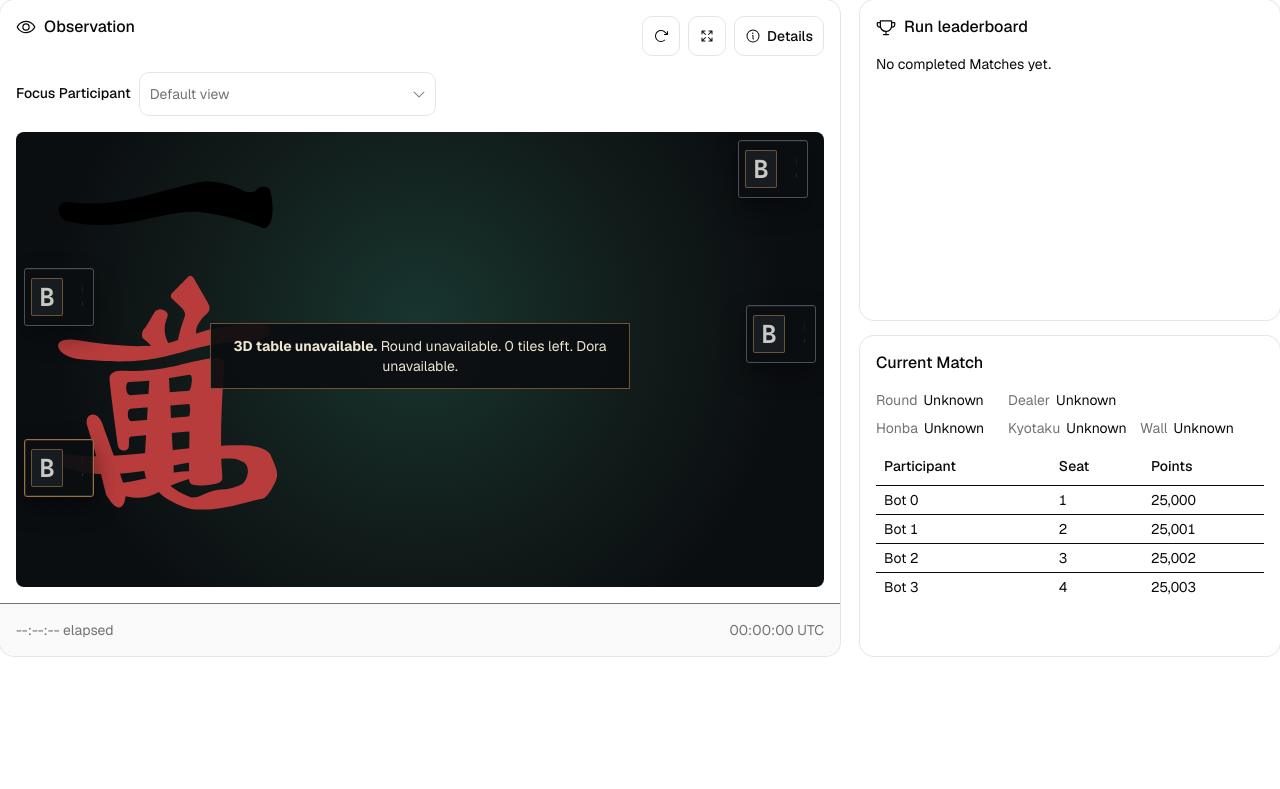
Test: discloses routine connection metadata without renewing or remounting observation
The image size is (1280, 789).
expect the heading "Observation" is shown: met, box [16,16,135,37]
expect the text "--:--:-- elapsed" is shown: met, box [16,620,114,640]
Click the button "Details" at (779, 36), box [734,16,824,56]
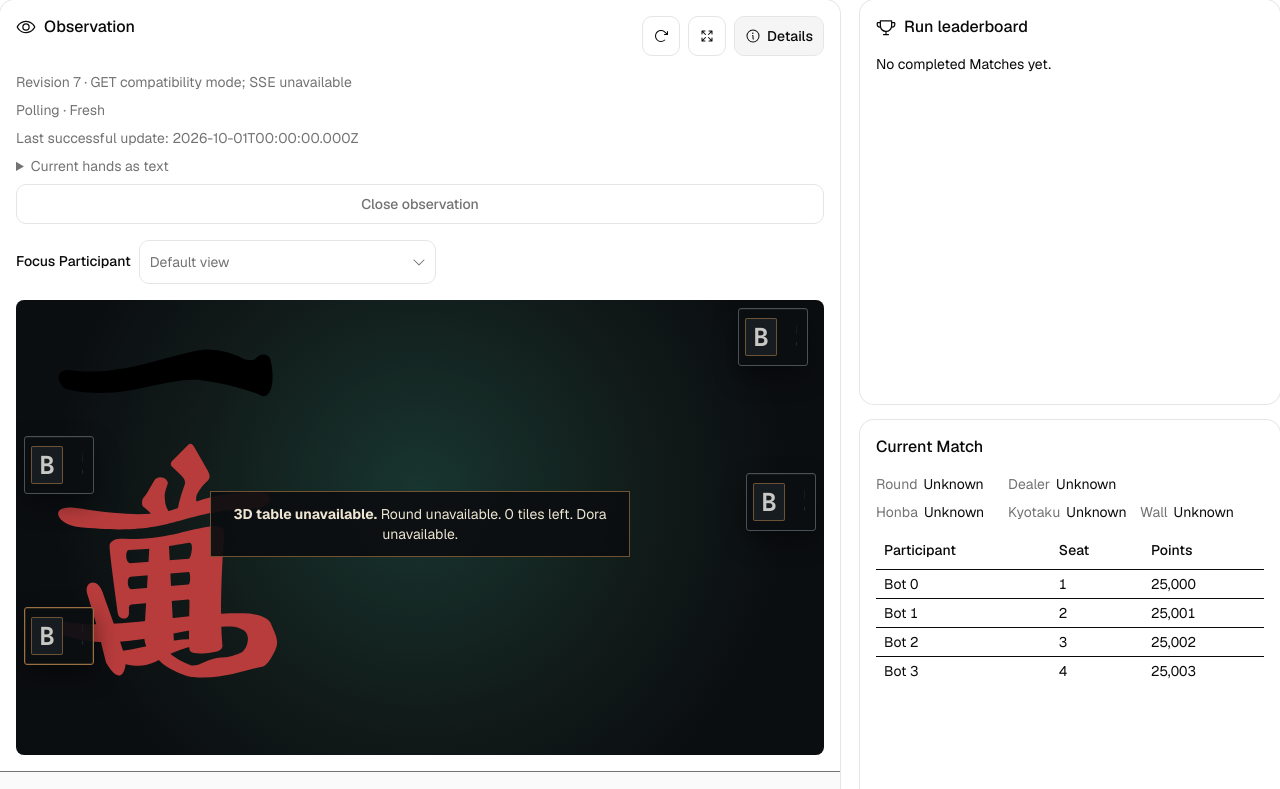
expect the text "Last successful update: 2026-10-01T00:00:00.000Z" is shown: met, box [16,129,358,147]
expect the text "Revision 7 · GET compatibility mode; SSE unavailable" is shown: met, box [16,73,352,91]
Click the button "Details" at (779, 36), box [734,16,824,56]
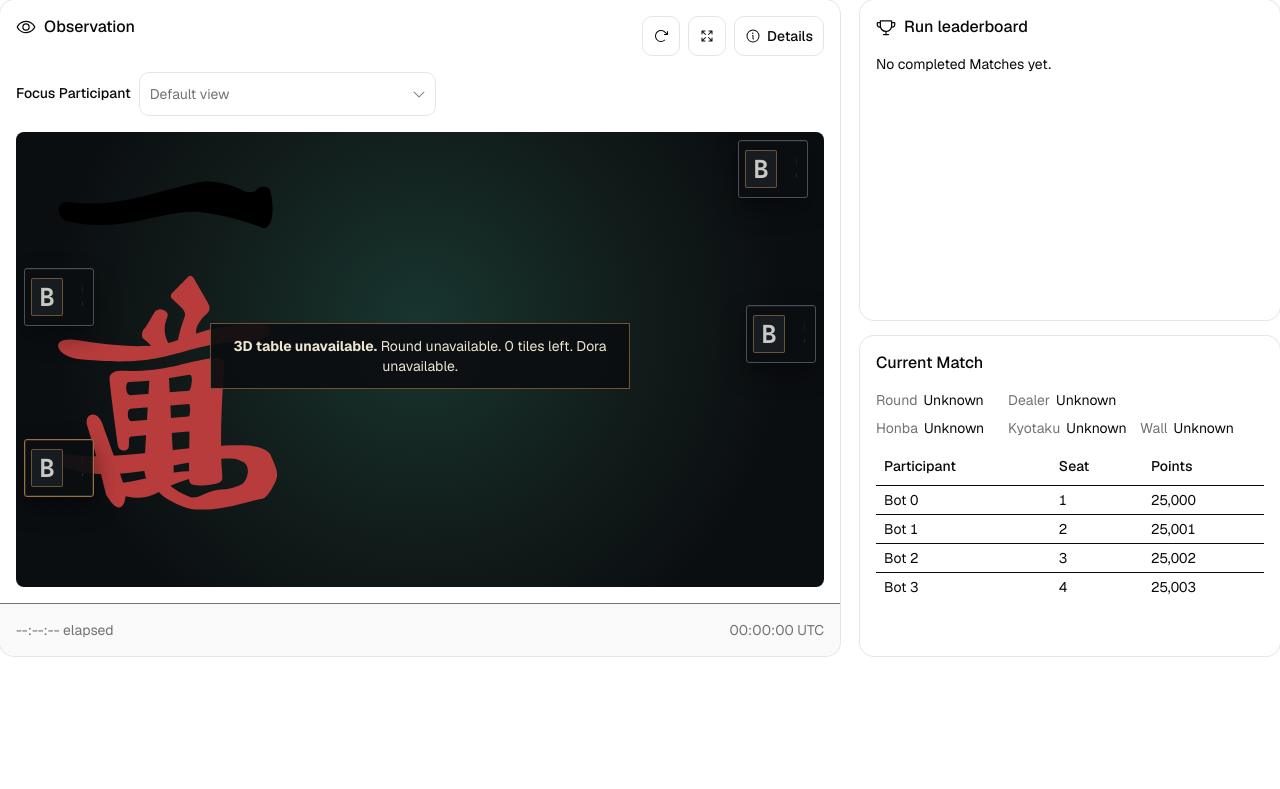
expect the text "Polling · Fresh" is gone: met
